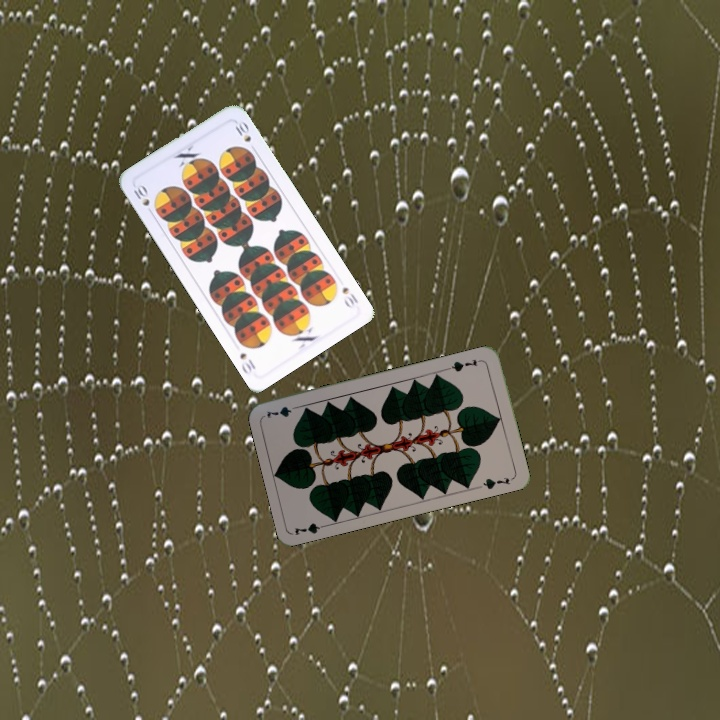G7: (290, 519, 332, 538), (445, 355, 480, 374)
S10: (130, 180, 156, 218), (338, 283, 361, 311)
